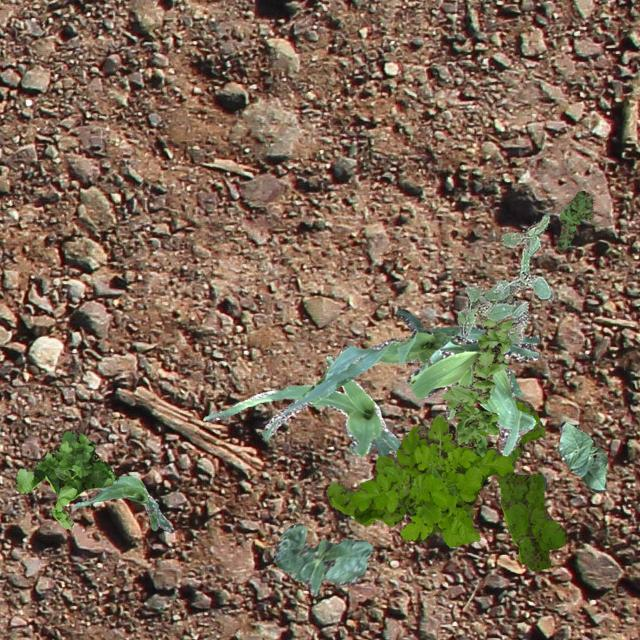crop: (260, 308, 522, 440), (202, 353, 400, 458), (406, 322, 538, 454), (272, 522, 370, 594), (74, 476, 172, 532), (558, 419, 606, 492)
weed: (324, 396, 544, 546), (457, 212, 552, 342), (13, 428, 118, 528), (442, 312, 514, 456), (496, 472, 566, 570), (556, 190, 594, 250)
